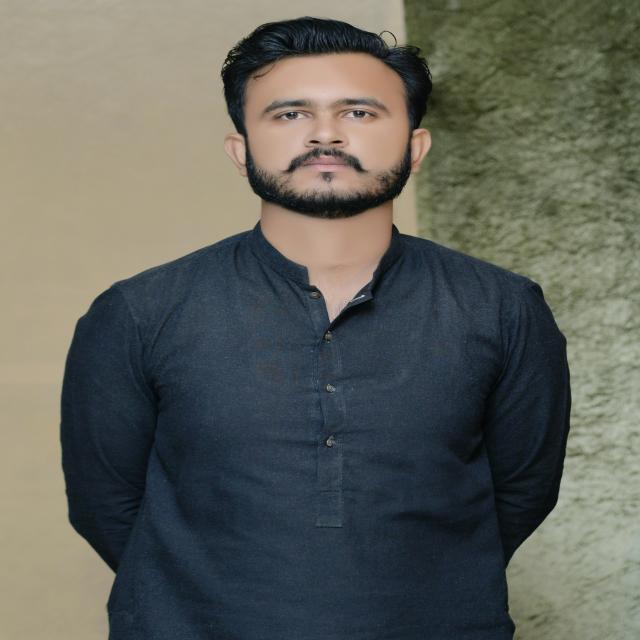human: (50, 15, 579, 640)
